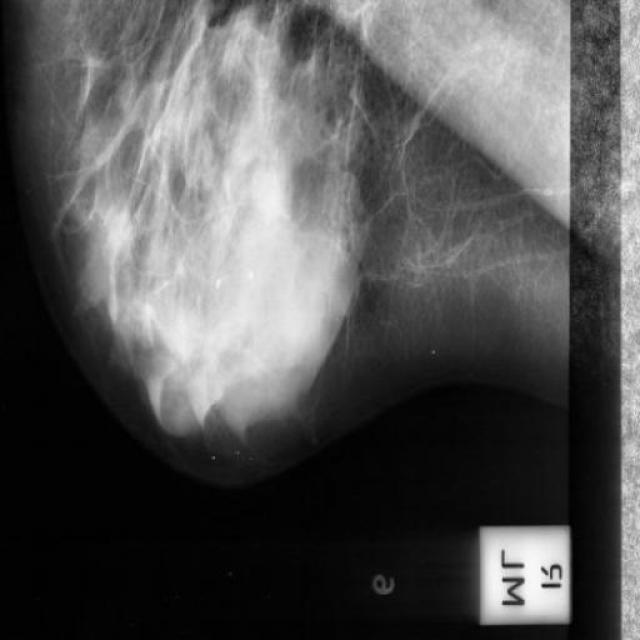cancer: (396, 330, 480, 414)
